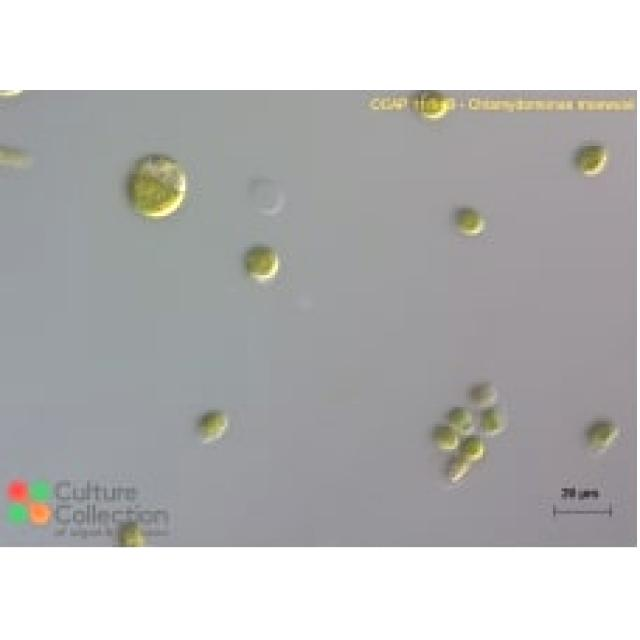Green Algae: (124, 154, 186, 222), (576, 410, 618, 455), (242, 244, 284, 286), (573, 135, 609, 177), (446, 205, 488, 239), (191, 407, 230, 441), (438, 452, 471, 488), (463, 382, 500, 407), (441, 404, 474, 432), (480, 407, 508, 438), (432, 421, 458, 452), (461, 435, 488, 460)
